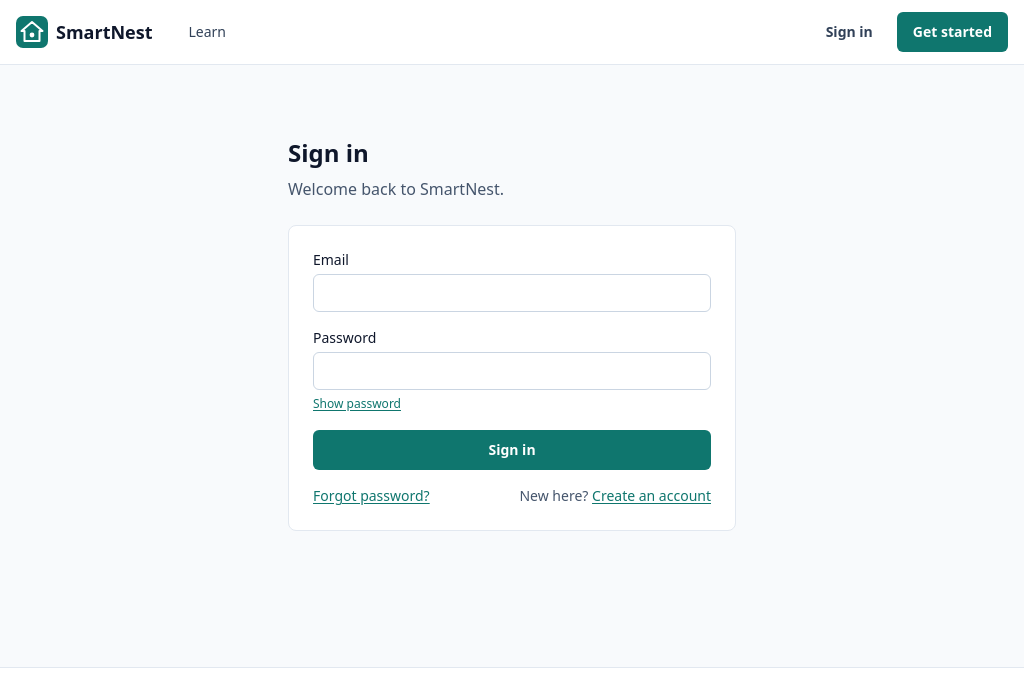
Test case: sign in › signs in, stores the session, and lands on the dashboard
Type "Asha@Example.com" into the field labelled "Email" at (512, 293), box [313, 274, 711, 312]
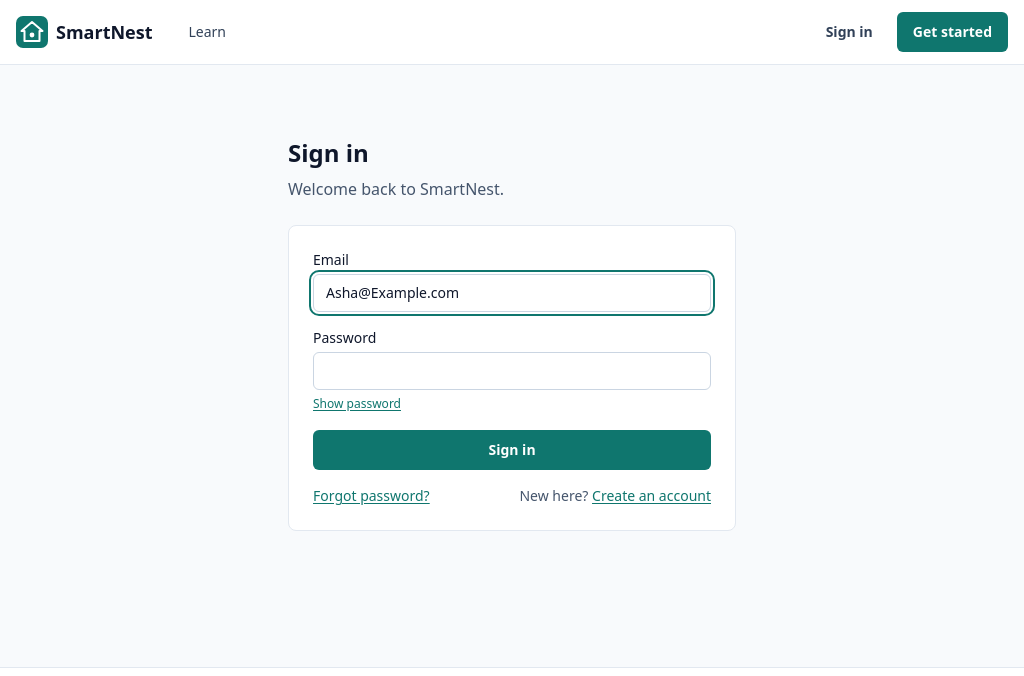
Type "Sup3rSecret99" into the password field labelled "Password" at (512, 371), box [313, 352, 711, 390]
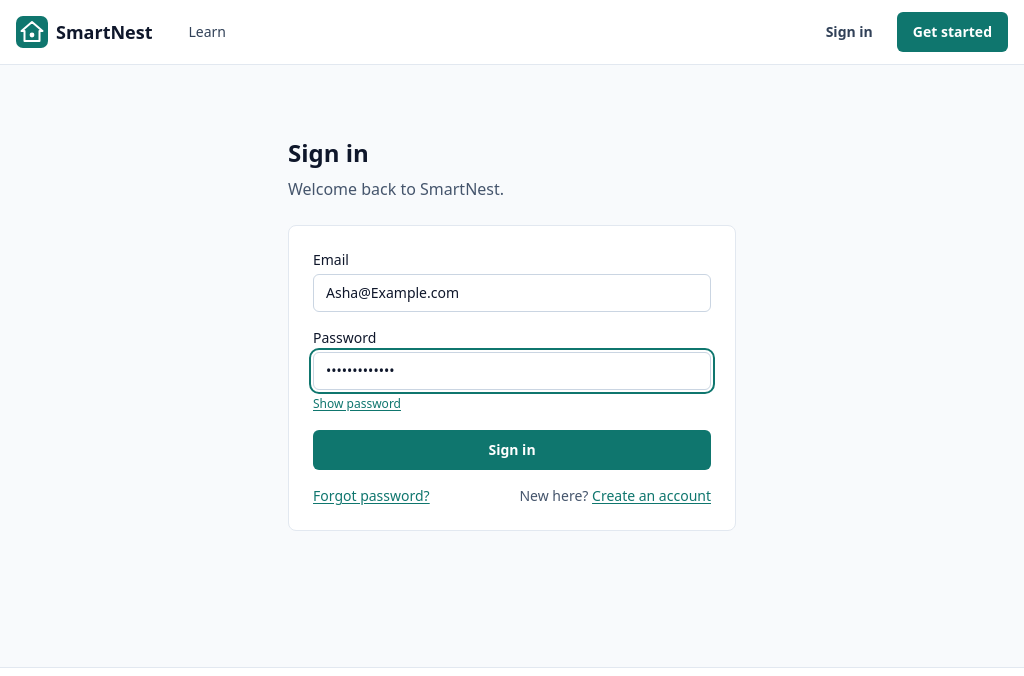
Click the button "Sign in" at (512, 450), box [313, 430, 711, 470]
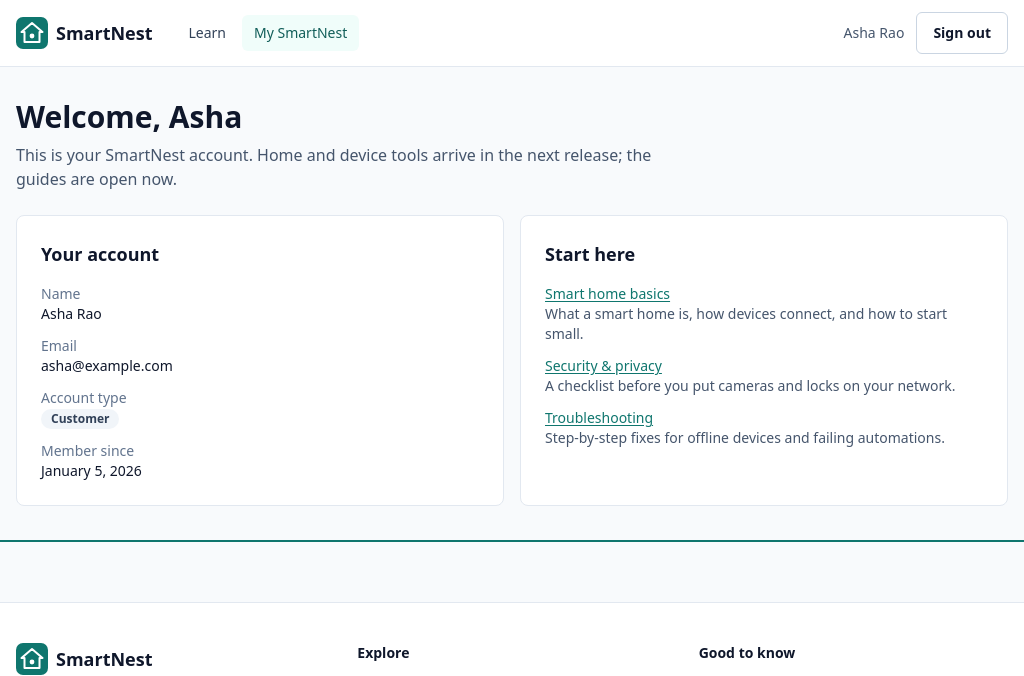
Expected: the heading "Welcome, Asha" is shown, [16, 96, 242, 137]
